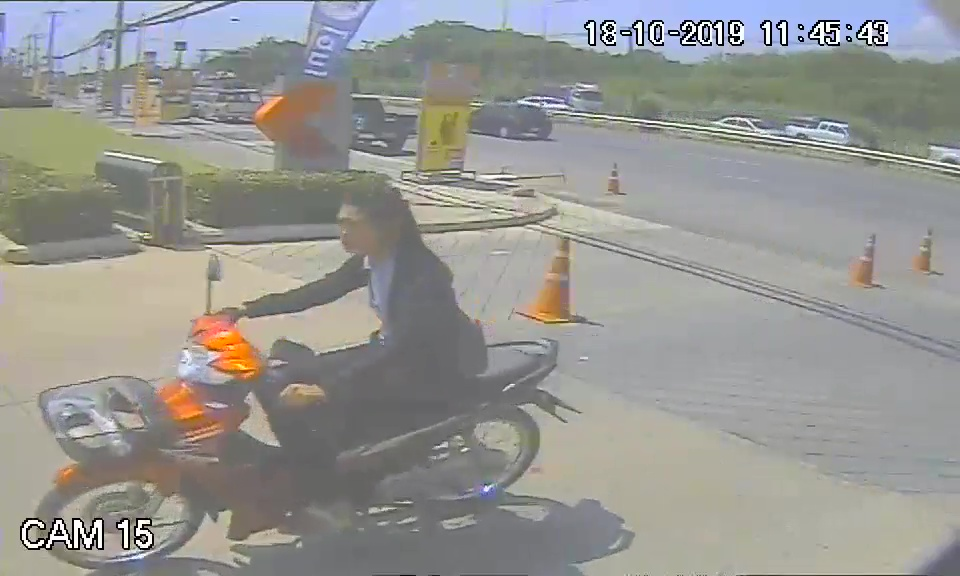motorcycle: (33, 310, 567, 567)
